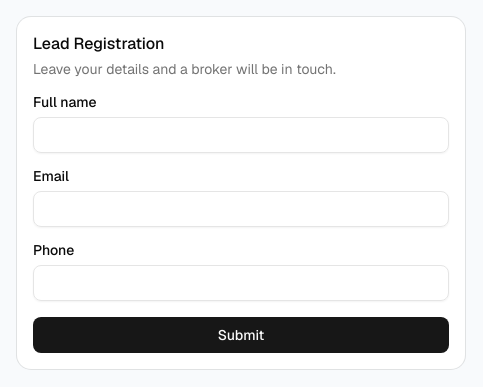
Test: PublicFormPage › shows the thank you state after a successful submission
Expected: the text "Lead Registration" is shown, [33,33,164,54]
Type "Jane Doe" into the field labelled "Full name" at (241, 135), box [33,117,449,153]
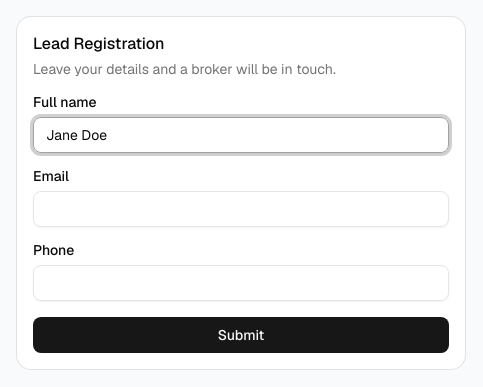
Type "jane@example.com" into the field labelled "Email" at (241, 209), box [33,191,449,227]
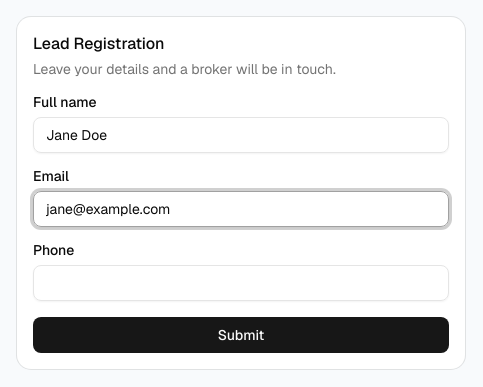
Type "09171234567" into the field labelled "Phone" at (241, 283), box [33,265,449,301]
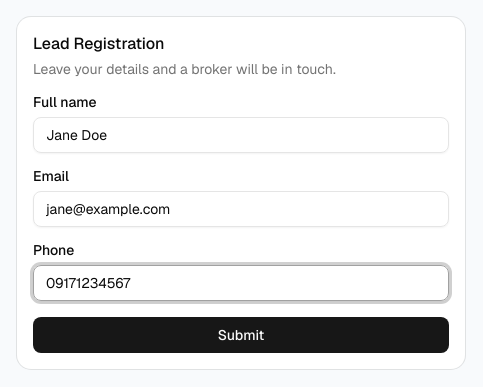
Click the button "Submit" at (241, 335), box [33,317,449,353]
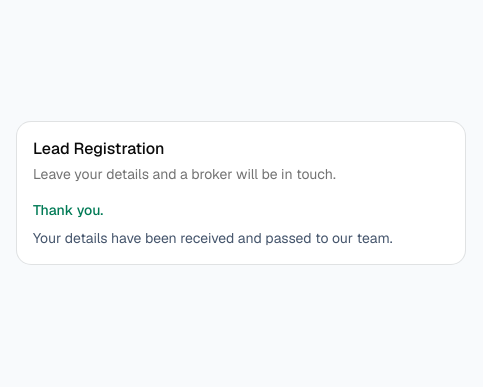
Expected: the text "Thank you." is shown, [33,201,103,219]
